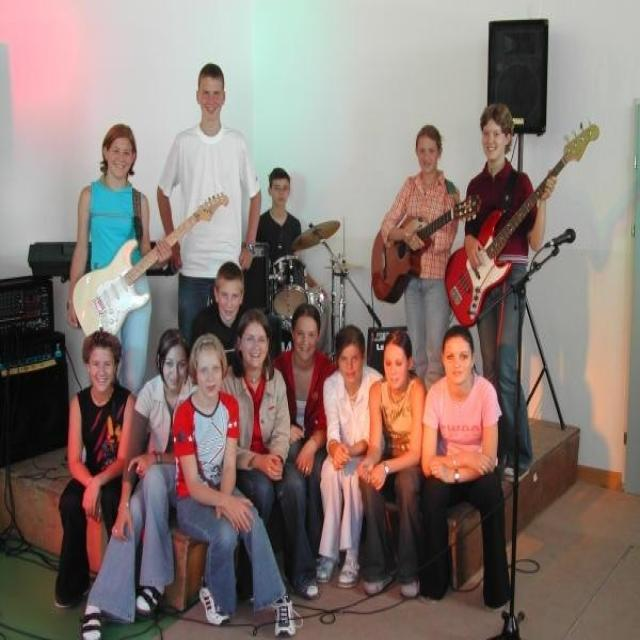drums: (238, 214, 352, 365)
guitar: (70, 196, 232, 341), (369, 196, 484, 303)
